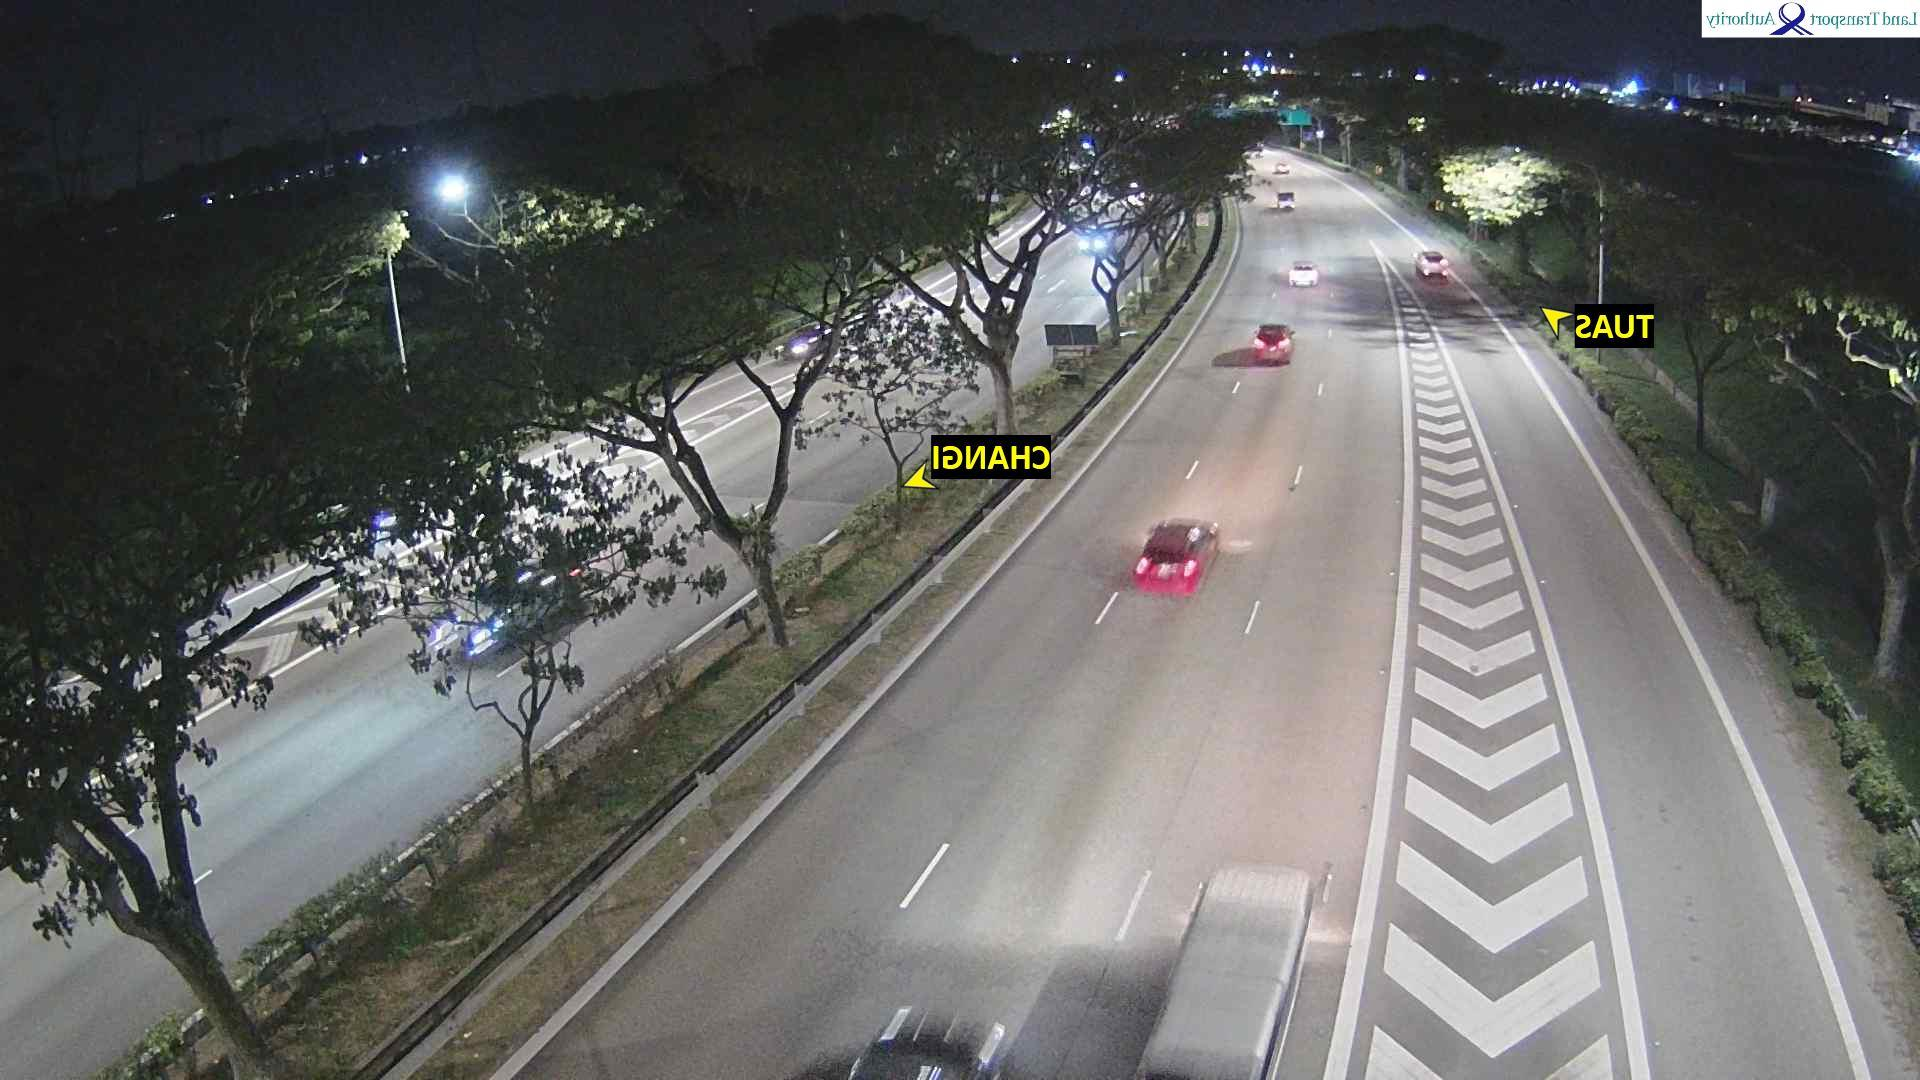cars: (1134, 858, 1329, 1077), (847, 1004, 1007, 1077), (1134, 516, 1221, 595), (421, 608, 512, 662), (782, 323, 835, 359), (1253, 322, 1296, 364), (1076, 220, 1120, 255), (1415, 248, 1451, 278), (1288, 260, 1320, 287), (1276, 190, 1296, 208), (1275, 160, 1291, 174)
